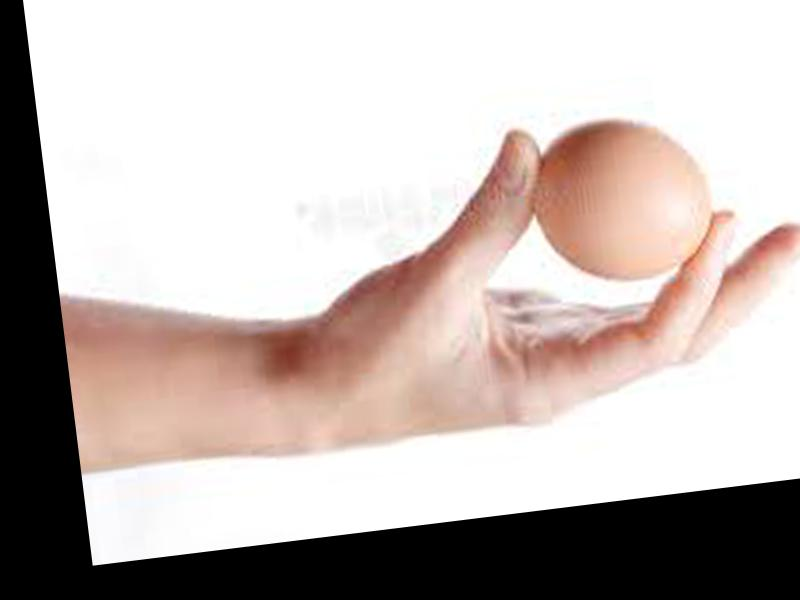Eggs: (522, 110, 717, 288)
